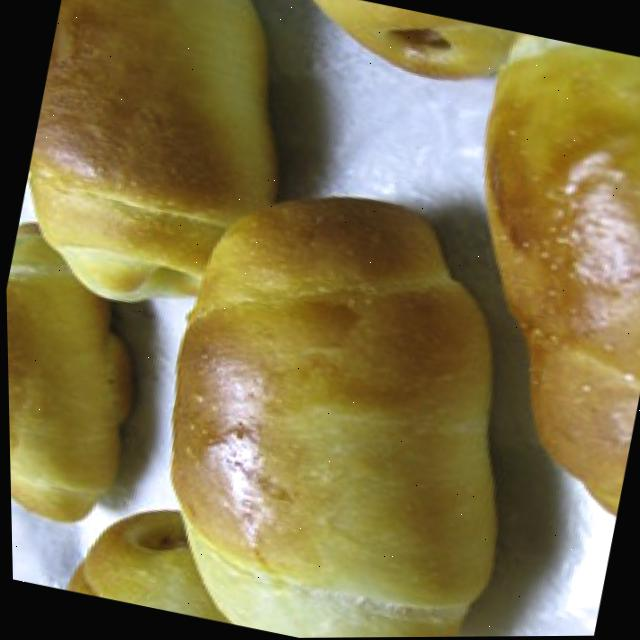面包点心: (94, 155, 583, 639)
